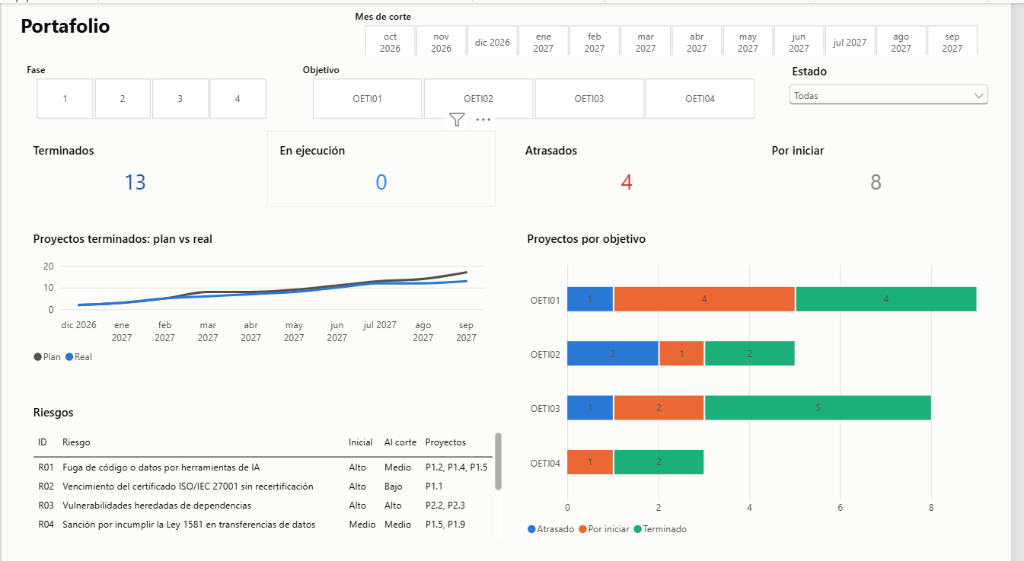

This screenshot's page, from the dashboard's own definition file:
{"tool":"powerbi","page":{"name":"Portafolio","canvas":[1280,720],"ordinal":1},"visuals":[{"type":"textbox","box":[24,12,400,48],"z":1000},{"type":"slicer","fields":{"Values":["dim_corte.etiqueta"]},"box":[440.4,8.4,815.6,57.9],"z":2000},{"type":"slicer","fields":{"Values":["dim_proyecto.fase"]},"box":[24,76,330,72],"z":4000},{"type":"slicer","fields":{"Values":["dim_proyecto.objetivo"]},"box":[374,76,600,72],"z":4100},{"type":"slicer","fields":{"Values":["fact_proyecto_mes.estado"]},"box":[994,76,262,72],"z":4200},{"type":"card","title":"Terminados","fields":{"Values":["Medidas.Proyectos al corte (con cero)"]},"box":[24,162,290,96],"z":5000},{"type":"card","title":"En ejecución","fields":{"Values":["Medidas.Proyectos al corte (con cero)"]},"box":[336,162,290,96],"z":5100},{"type":"card","title":"Atrasados","fields":{"Values":["Medidas.Proyectos al corte (con cero)"]},"box":[648,162,290,96],"z":5200},{"type":"card","title":"Por iniciar","fields":{"Values":["Medidas.Proyectos al corte (con cero)"]},"box":[960,162,296,96],"z":5300},{"type":"lineChart","title":"Proyectos terminados: plan vs real","fields":{"Category":["dim_fecha.etiqueta"],"Y":["Medidas.Terminados plan (acum)","Medidas.Terminados real (acum)"]},"box":[24,274,606,204],"z":6000},{"type":"barChart","title":"Proyectos por objetivo","fields":{"Category":["dim_proyecto.objetivo"],"Series":["fact_proyecto_mes.estado"],"Y":["Medidas.Proyectos al corte"]},"box":[650.3,273.9,605.6,422.3],"z":6100},{"type":"tableEx","title":"Riesgos","fields":{"Values":["dim_riesgo.id_riesgo","dim_riesgo.riesgo","dim_riesgo.nivel","dim_riesgo.nivel_corte","dim_riesgo.proyectos"]},"box":[24.1,493.4,626.1,202.7],"z":6200}]}

Visuals, with their boxes in screenshot pixels (x1, y1, x2, y2), scaled from the page's 1280x720 canvas onto the 1024x561 screenshot:
textbox: 19:9:339:47
slicer - dim_corte.etiqueta: 352:7:1005:52
slicer - dim_proyecto.fase: 19:59:283:115
slicer - dim_proyecto.objetivo: 299:59:779:115
slicer - fact_proyecto_mes.estado: 795:59:1005:115
"Terminados" card: 19:126:251:201
"En ejecución" card: 269:126:501:201
"Atrasados" card: 518:126:750:201
"Por iniciar" card: 768:126:1005:201
"Proyectos terminados: plan vs real" lineChart: 19:213:504:372
"Proyectos por objetivo" barChart: 520:213:1005:542
"Riesgos" tableEx: 19:384:520:542
